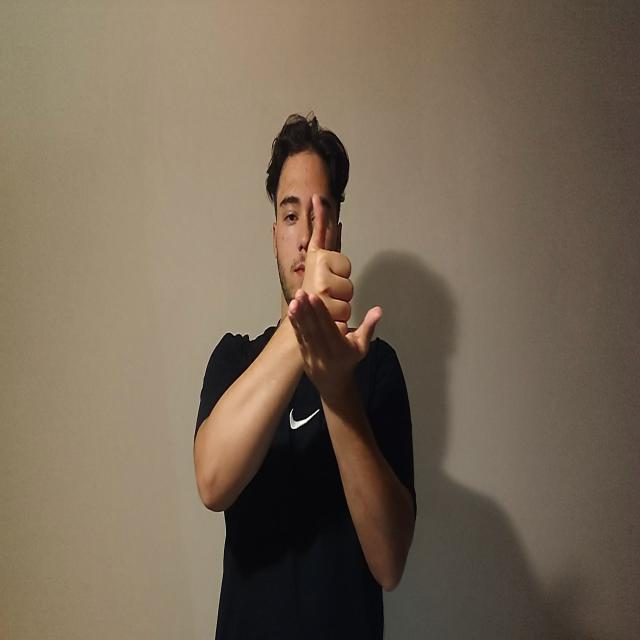help: (288, 199, 382, 380)
